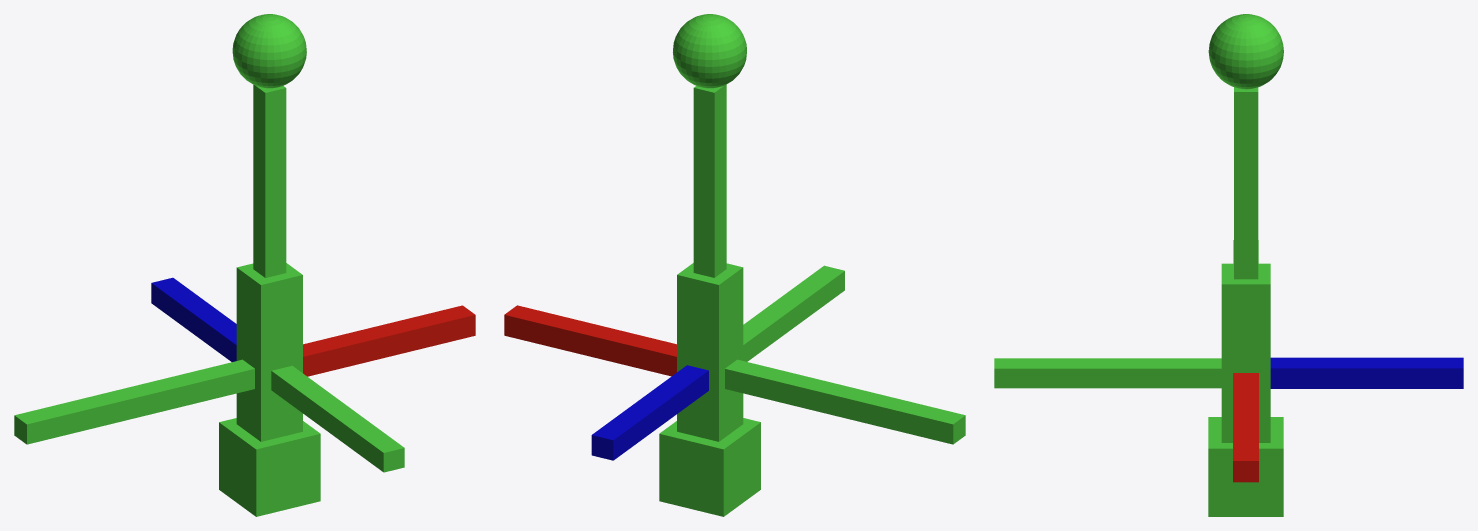
Rendered from contraption.obj.
3 views of the same model, side by side, from view 1: azimuth 30°, elevation 25°; view 2: azimuth 150°, elevation 25°; view 3: azimuth 270°, elevation 25° (orthographic).
Parts seen in each view (by area): view 1: Cube_Cube.005; view 2: Cube_Cube.005; view 3: Cube_Cube.005.
Part boxes in pixels (x1,y1,x2,y2): Cube_Cube.005: [14, 14, 475, 516]; Cube_Cube.005: [504, 14, 965, 516]; Cube_Cube.005: [994, 14, 1463, 516].
Size of the model in its own units: 13.91 by 14.16 by 12.46.
